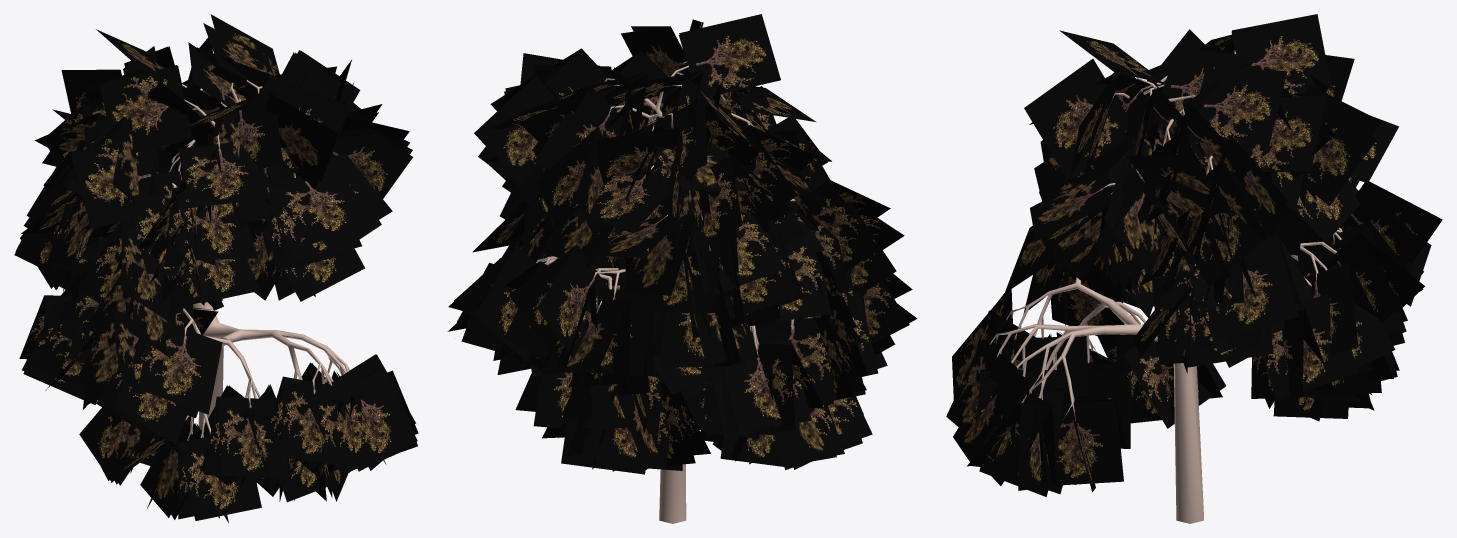
File: simpletree.glb
The picture shows the model from 3 angles, left to right: view 1: azimuth 30°, elevation 25°; view 2: azimuth 150°, elevation 25°; view 3: azimuth 270°, elevation 25°; orthographic projection. The views are drawn at different scales.
Bounding box in the file's own units: 5.28 × 6.28 × 5.96.
2 materials, 1 textured.
